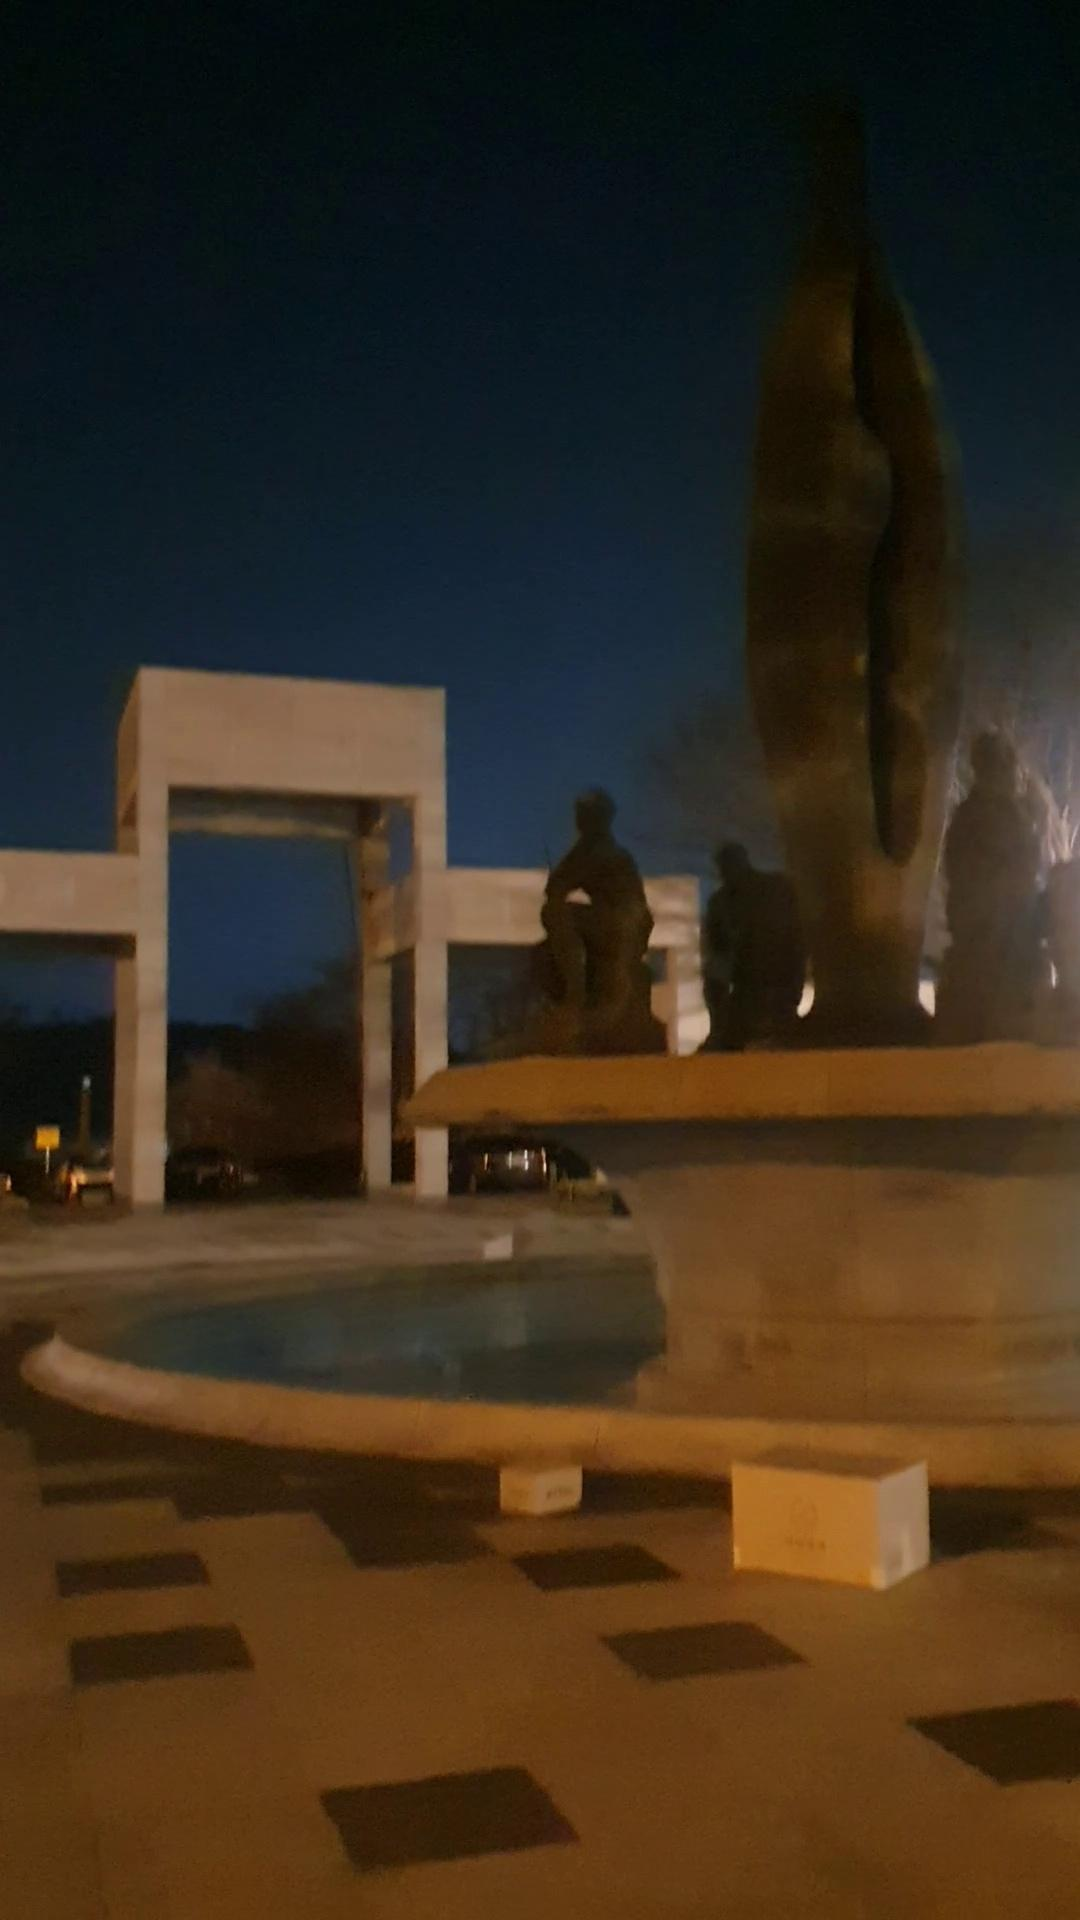Box: (723, 1428, 953, 1604), (496, 1445, 583, 1524)
